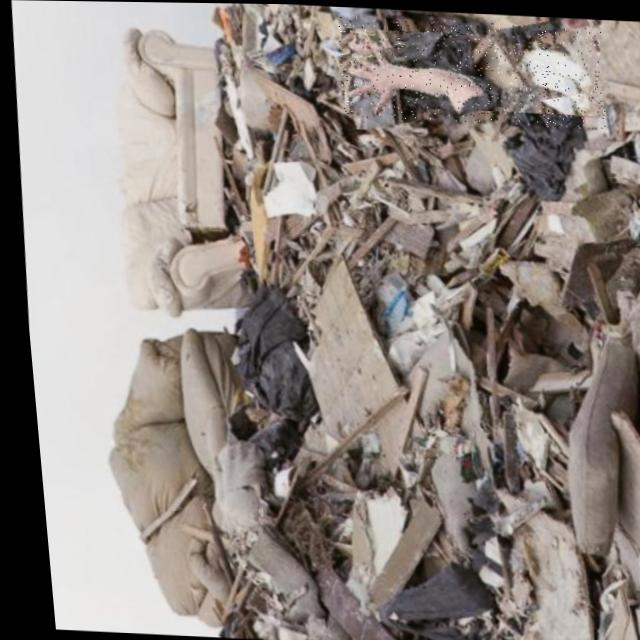Person in Rubble: (334, 12, 607, 126)
